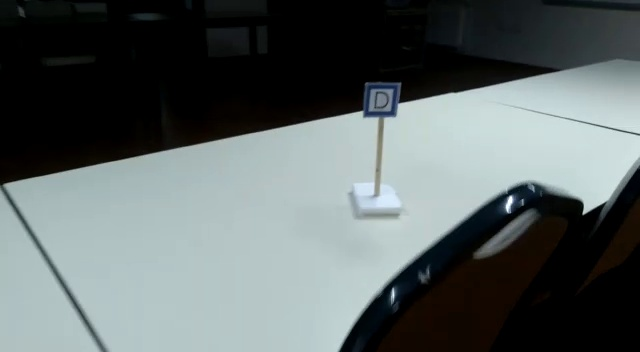durak: (364, 84, 399, 117)
